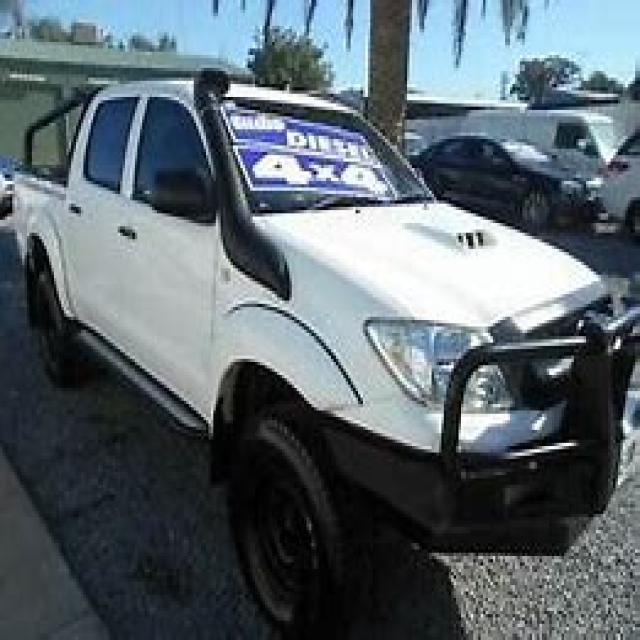light_vehicle: (20, 64, 638, 624)
